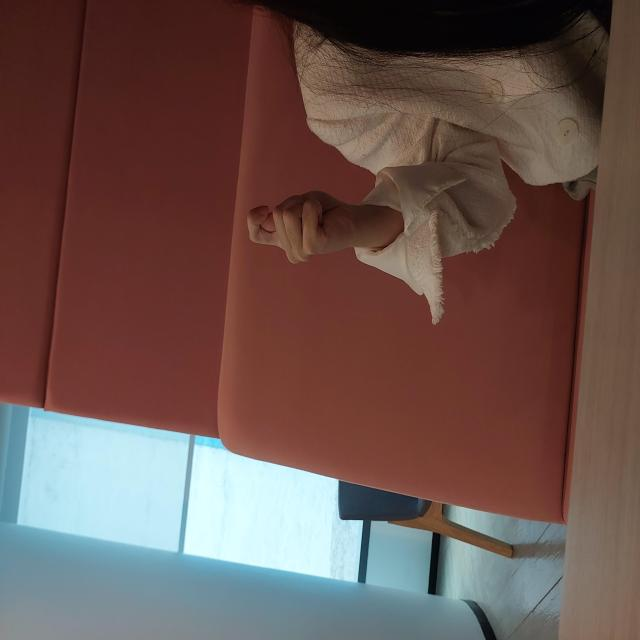T: (377, 248, 450, 348)
